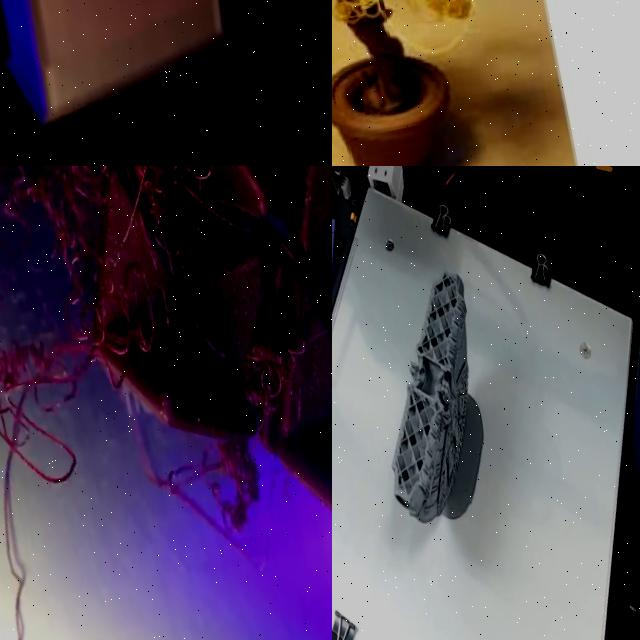spaghetti: (0, 166, 332, 504), (145, 422, 282, 570), (236, 312, 332, 441), (332, 0, 534, 60)
